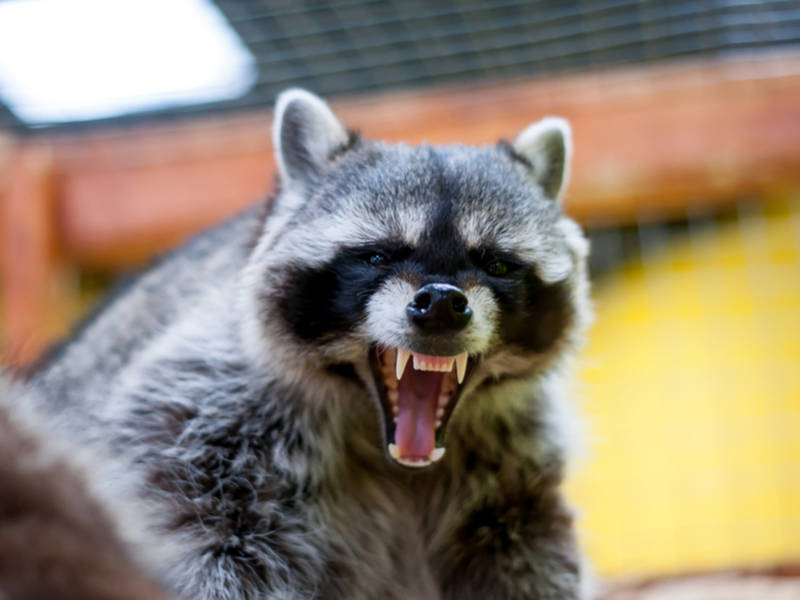raccoon: (25, 81, 651, 600)
